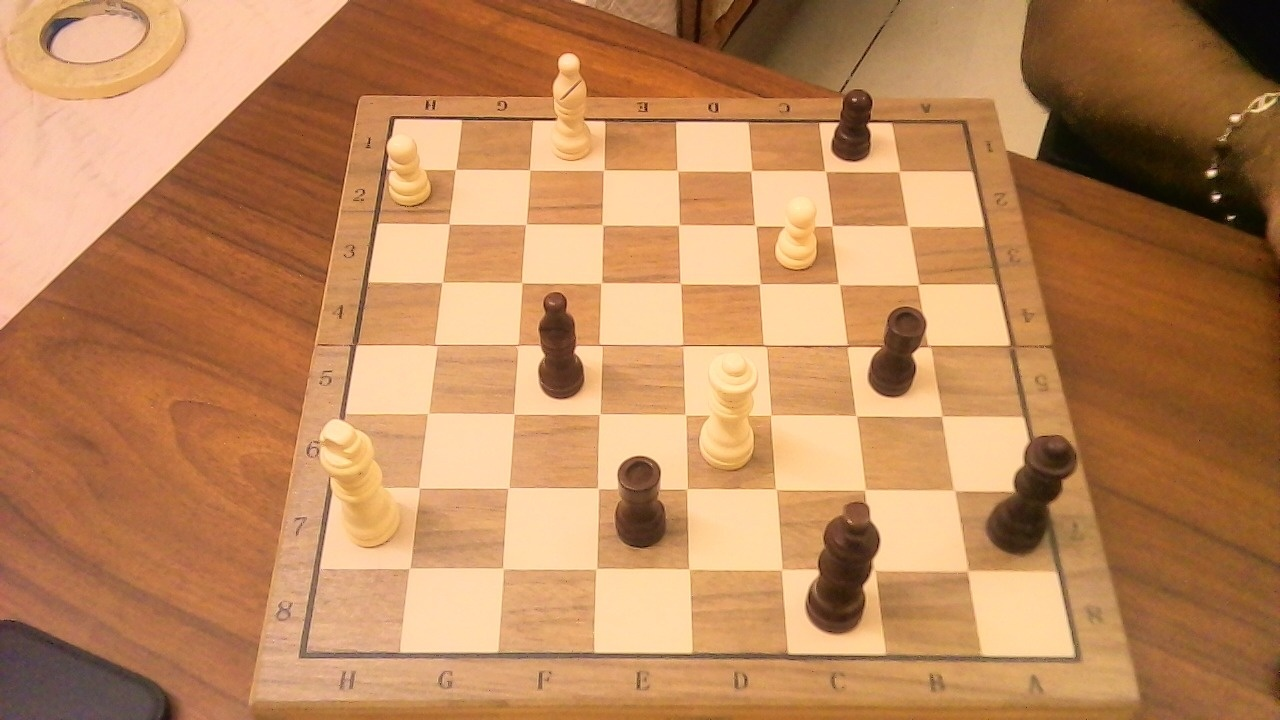B: (541, 42, 599, 165)
K: (314, 406, 408, 553)
P: (767, 187, 826, 274), (381, 127, 438, 208)
Q: (693, 341, 769, 472)
b: (525, 279, 596, 403)
k: (797, 487, 895, 640)
p: (826, 77, 883, 166)
q: (980, 419, 1090, 559)
r: (862, 294, 937, 403), (605, 442, 677, 551)
